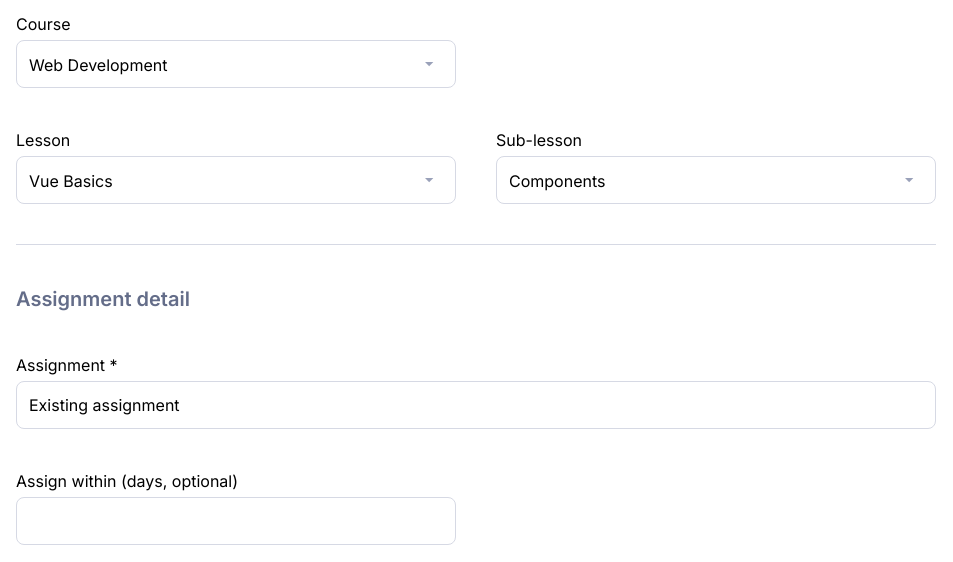
Test: AssignmentForm › still resets lesson/sub-lesson when the user changes course after a pre-fill
Select "Advanced Vue" in the dropdown with id "course" at (236, 64), box [16, 40, 456, 88]
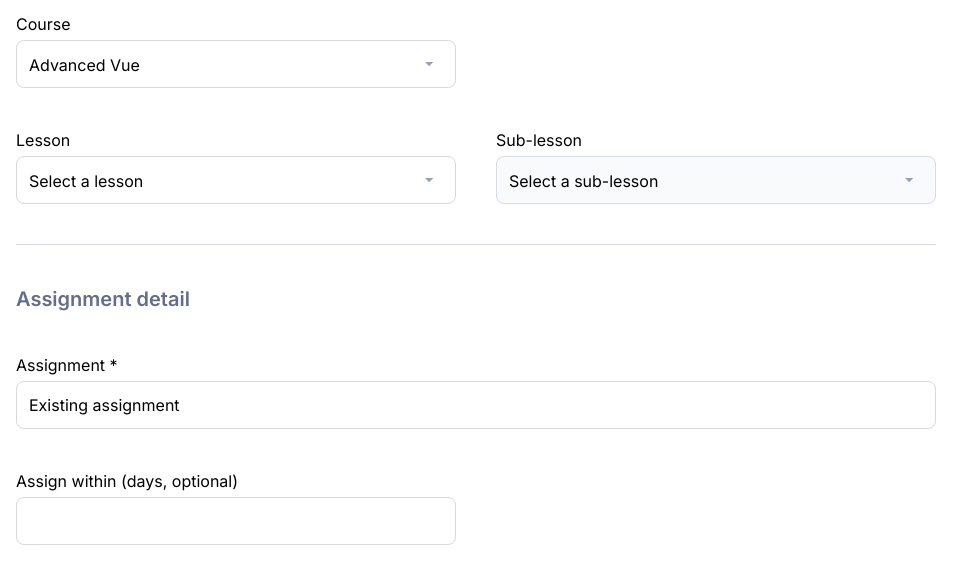
Check: the dropdown with id "lesson" shows "Select a lesson", box [16, 156, 456, 204]
Check: the dropdown with id "sub-lesson" shows "Select a sub-lesson", box [496, 156, 936, 204]
